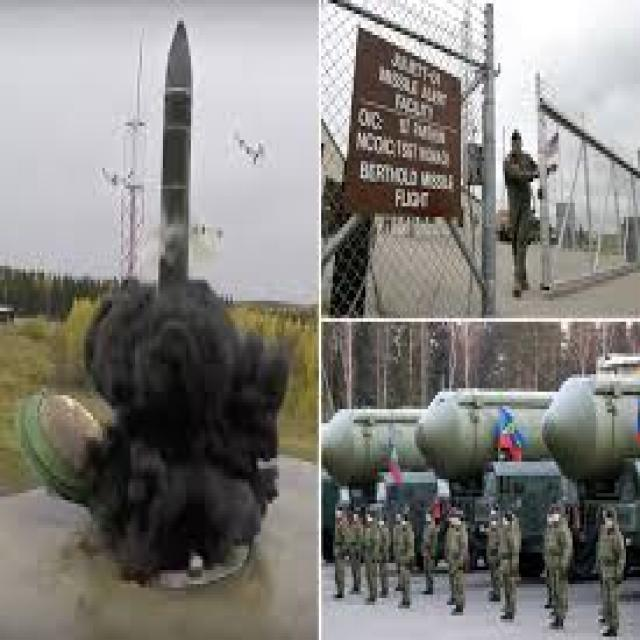Missile: (155, 11, 196, 289)
